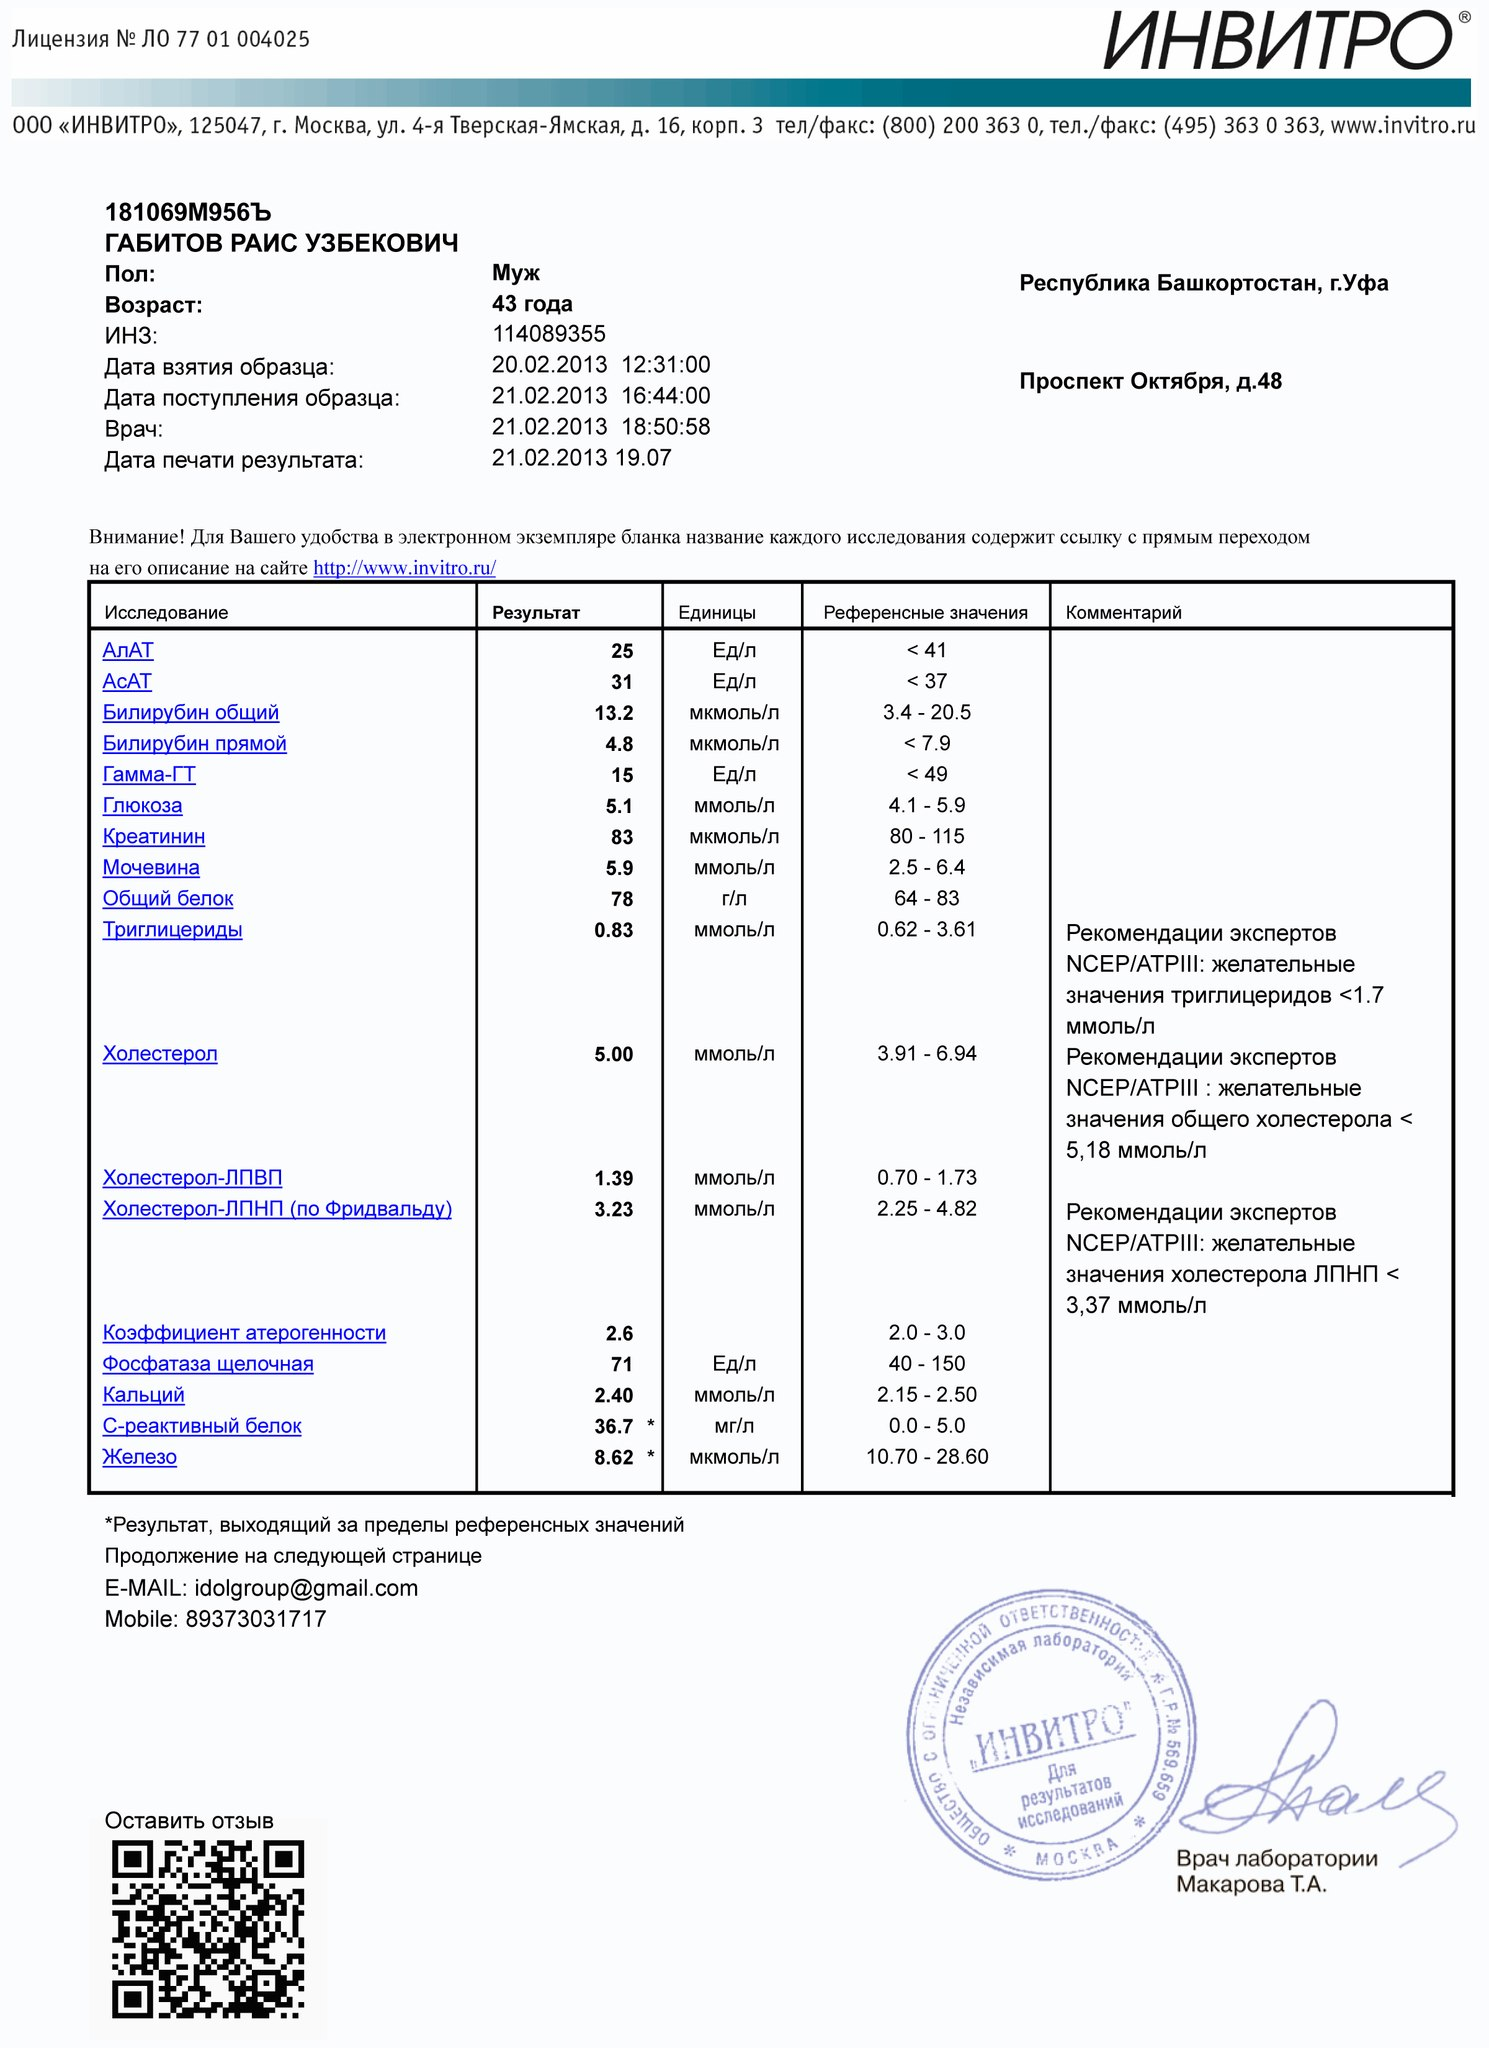column: (99, 582, 457, 1493), (1063, 582, 1413, 1493), (822, 582, 1029, 1493), (490, 582, 636, 1493), (678, 582, 783, 1493)
